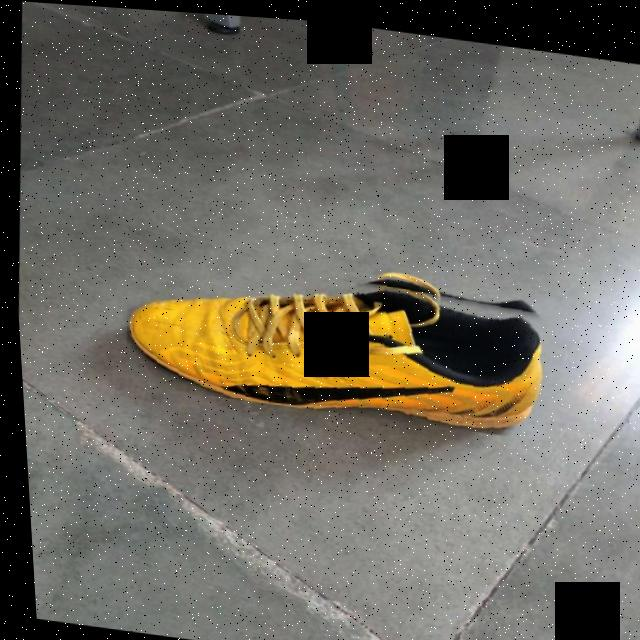shoe: (114, 236, 553, 435)
